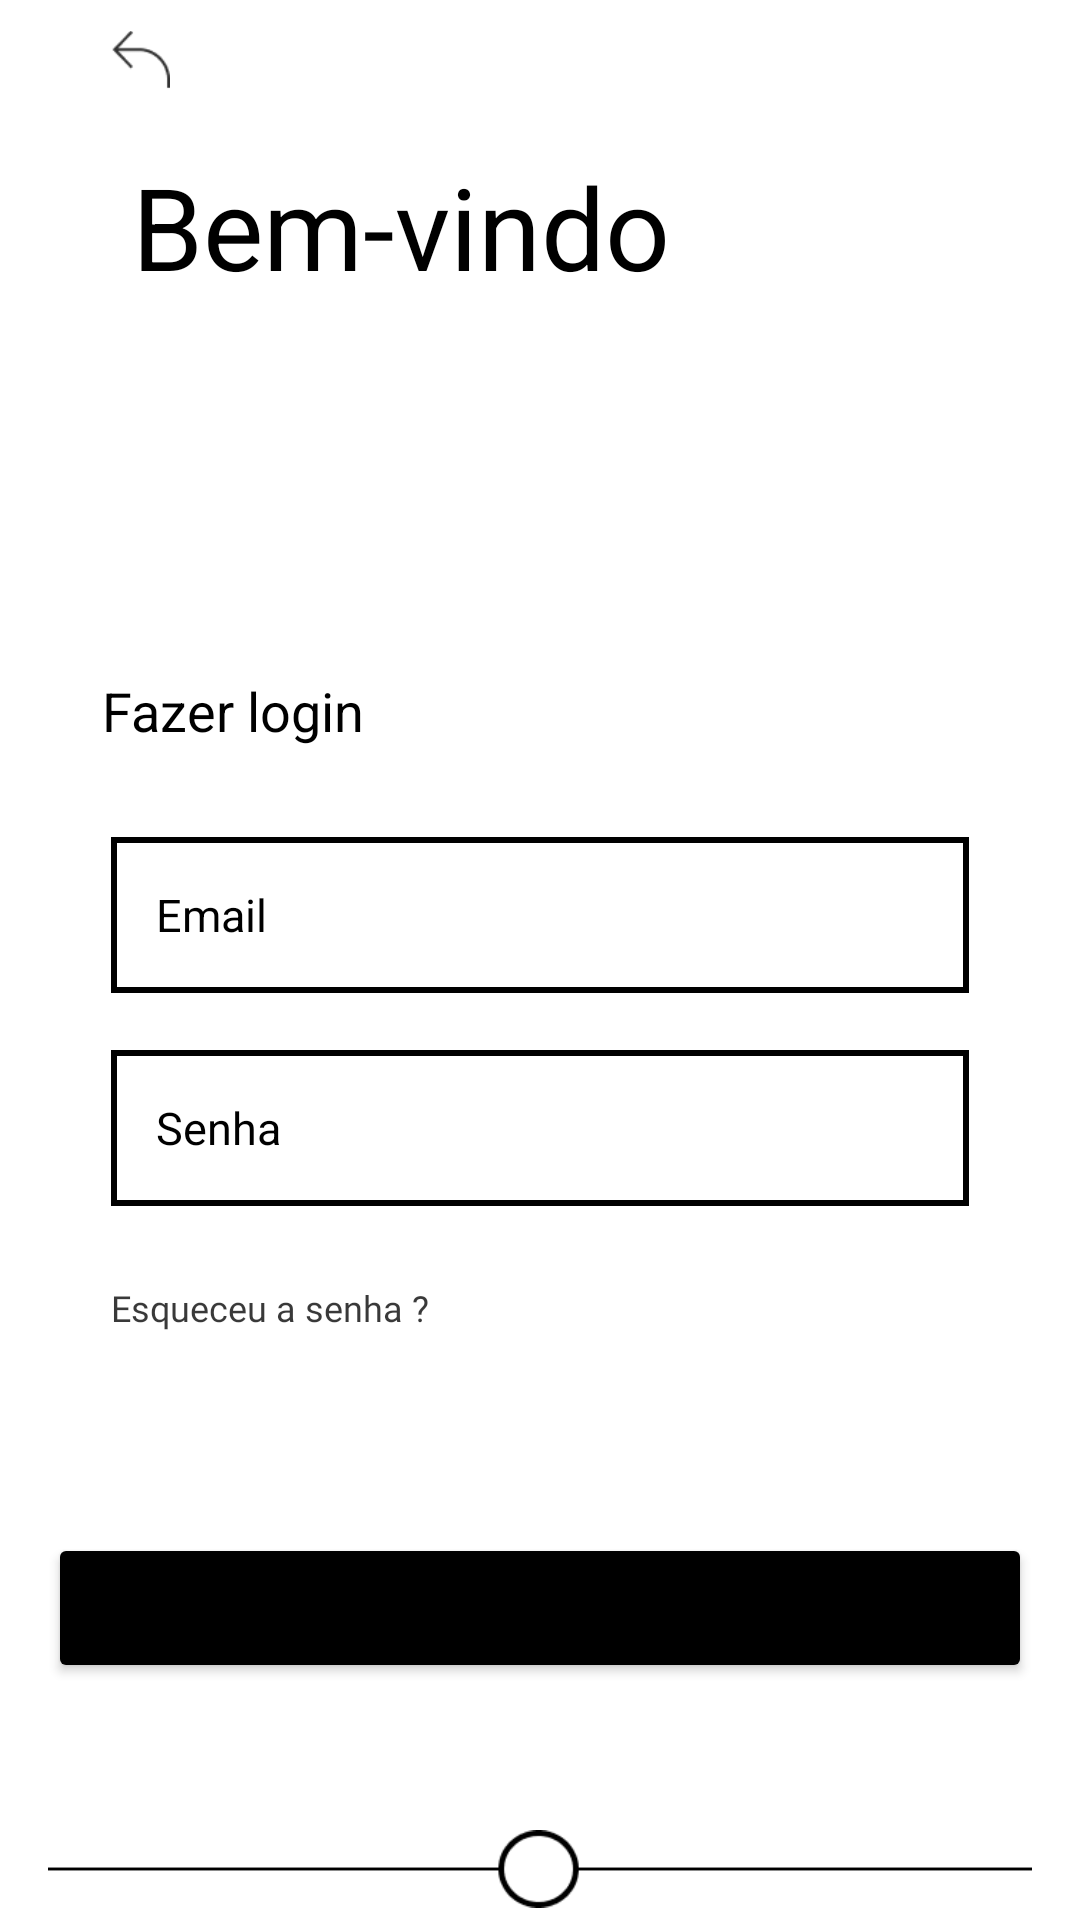

Named icons in this screenshot (1080w x 1920h) and their centers, (x=x, y=y):
back: (x=141, y=59)
